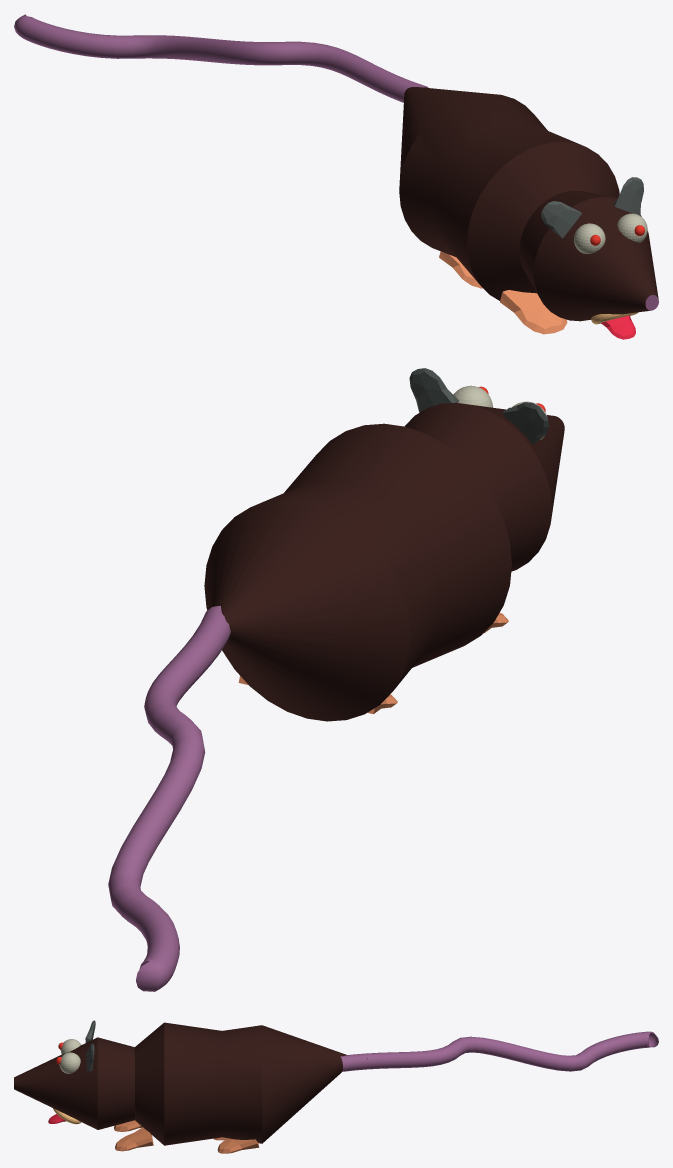
Rendered from Szczur.fbx.
3 renders of one model, top to bottom at view 1: azimuth 30°, elevation 25°; view 2: azimuth 150°, elevation 25°; view 3: azimuth 270°, elevation 25°, orthographic. The views are drawn at different scales.
Parts seen in each view (by area): view 1: Cone, BezierCurve, Noga 1, Ucho, Ucho 2, Sphere, Sphere.001, Język, noga 2; view 2: Cone, BezierCurve, Ucho 2, Ucho; view 3: Cone, BezierCurve, Noga 3, Noga 4, Sphere.001, Noga 1.
Part boxes in pixels (x1,y1,x2,y2): Cone: (399, 87, 658, 321); BezierCurve: (14, 14, 428, 102); Noga 1: (500, 290, 567, 334); Ucho: (541, 201, 581, 238); Ucho 2: (613, 177, 643, 215); Sphere: (574, 223, 605, 253); Sphere.001: (617, 213, 647, 242); Język: (601, 315, 635, 339); noga 2: (439, 251, 482, 288); Cone: (204, 402, 564, 721); BezierCurve: (108, 606, 230, 991); Ucho 2: (409, 368, 458, 412); Ucho: (502, 402, 549, 444); Cone: (14, 1022, 367, 1145); BezierCurve: (340, 1031, 658, 1071); Noga 3: (115, 1127, 153, 1151); Noga 4: (217, 1138, 259, 1153); Sphere.001: (59, 1052, 80, 1073); Noga 1: (114, 1120, 142, 1131).
Bounding box in the file's own units: 439 × 274 × 1389.
